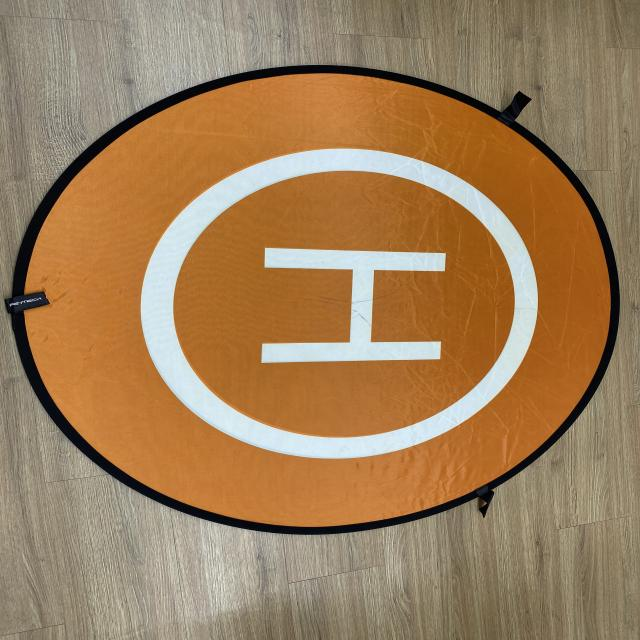helipad: (126, 141, 549, 469)
